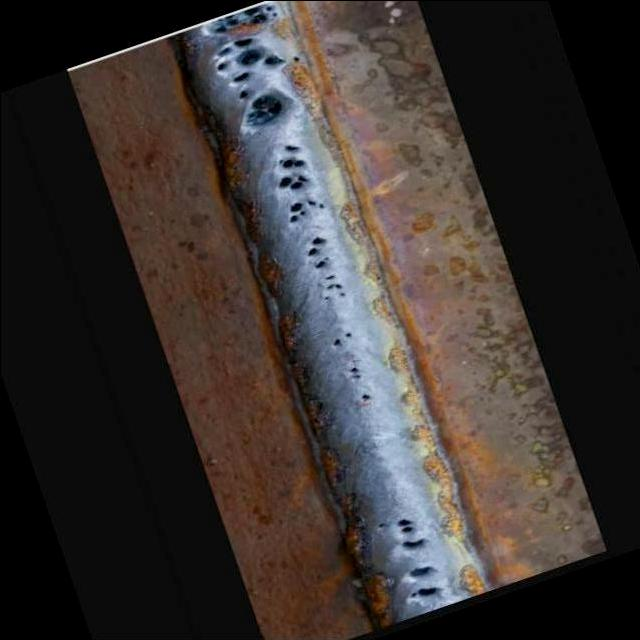defect: (208, 34, 304, 133), (209, 3, 279, 35), (374, 515, 428, 552), (285, 198, 328, 227), (303, 231, 331, 272), (321, 272, 348, 302), (272, 174, 311, 192), (406, 585, 446, 600), (404, 564, 436, 579), (275, 154, 307, 169), (332, 329, 354, 350), (345, 364, 364, 380), (283, 142, 301, 152), (359, 391, 373, 403)
